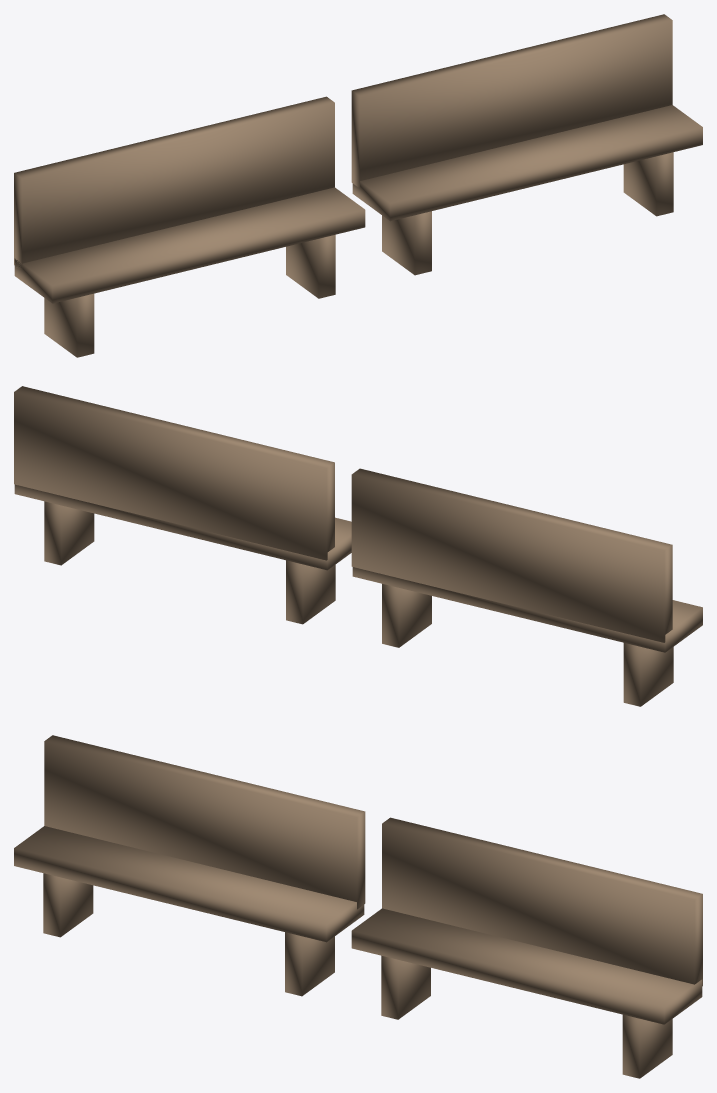
File: church_pew__cluster.glb
The picture shows the model from 3 angles, top to bottom: view 1: azimuth 30°, elevation 25°; view 2: azimuth 150°, elevation 25°; view 3: azimuth 330°, elevation 25°; orthographic projection.
Visible parts, largest first — view 1: world; view 2: world; view 3: world.
Boxes of the visible parts, left/top/right/bottom form: world: left=14, top=14, right=702, bottom=357; world: left=14, top=386, right=702, bottom=706; world: left=14, top=735, right=702, bottom=1078.
Bounding box in the file's own units: 4.58 × 1.11 × 0.47.
